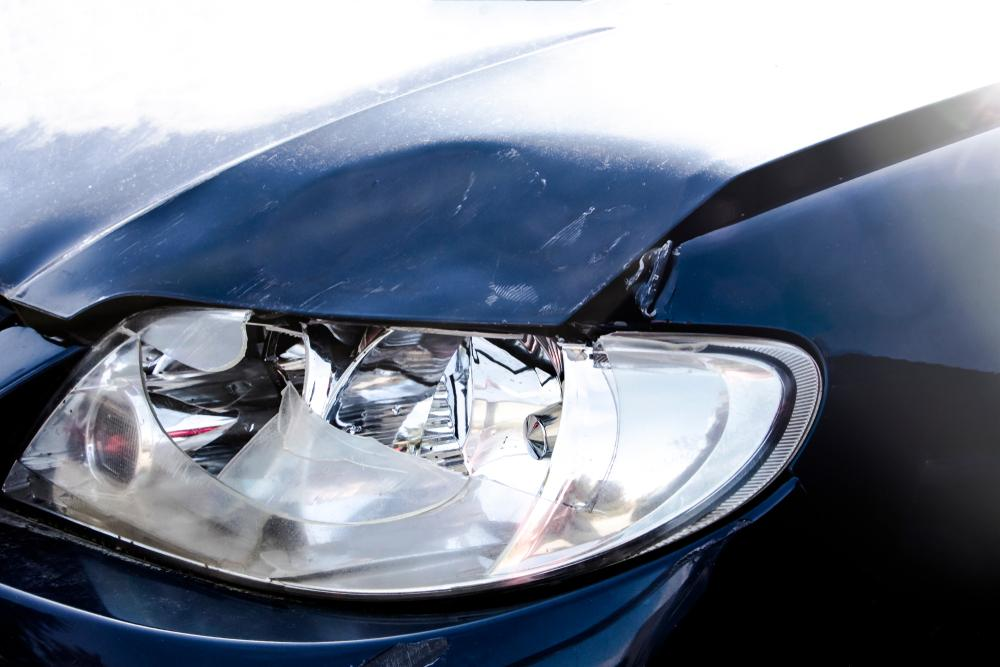dent: (123, 141, 722, 323)
lamp broken: (1, 305, 802, 597)
